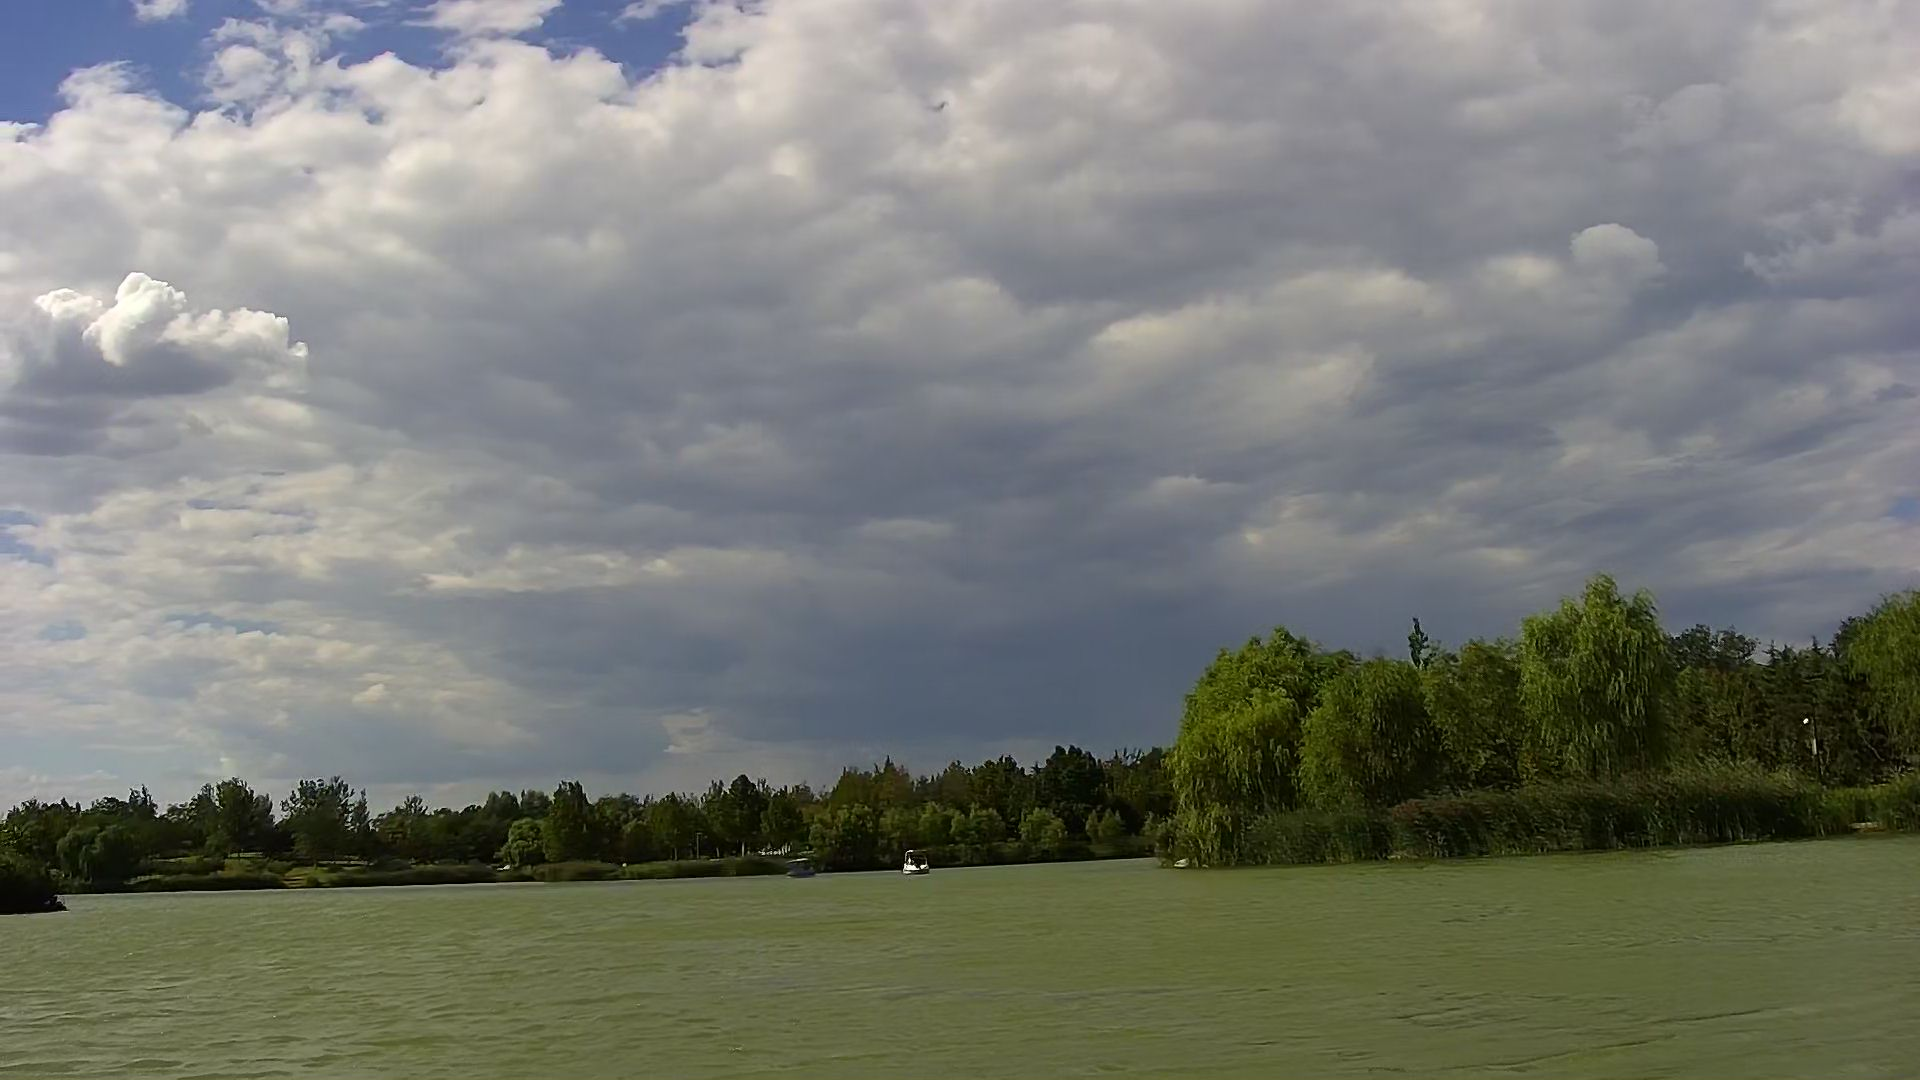boat: (899, 851, 931, 876), (786, 858, 820, 880)
